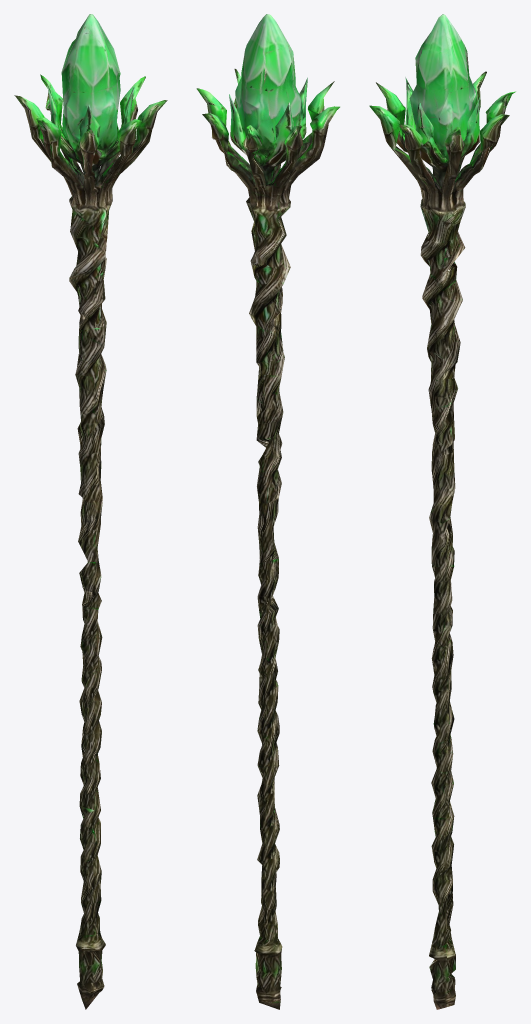
The model's file is 1033_wand.glb.
3 renders of one model, left to right at view 1: azimuth 30°, elevation 25°; view 2: azimuth 150°, elevation 25°; view 3: azimuth 270°, elevation 25°, orthographic.
Parts seen in each view (by area): view 1: Model; view 2: Model; view 3: Model.
Part boxes in pixels (<box>): Model: <box>14,14,167,1009</box>; Model: <box>196,14,339,1009</box>; Model: <box>369,14,515,1009</box>.
Size of the model in its own units: 0.1335 by 1 by 0.1335.
Materials: 1 (1 with a texture image).
